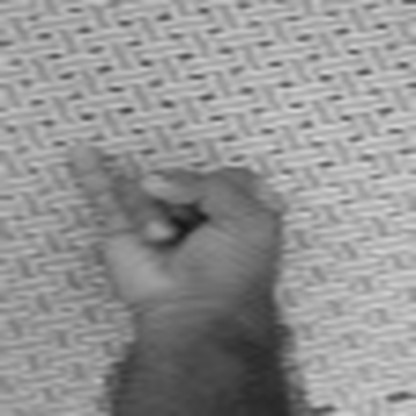i: (53, 137, 295, 317)
